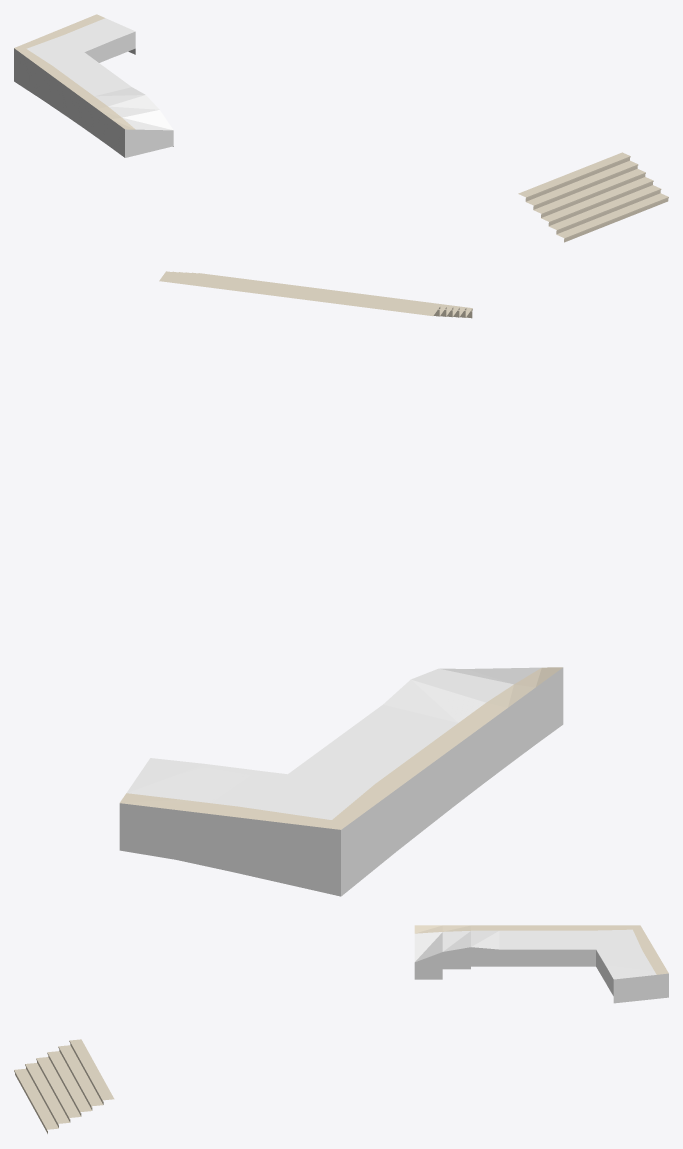
File: SM_BM_BC_Works_1_4.glb
3 views of the same model, one above another, from view 1: azimuth 30°, elevation 25°; view 2: azimuth 150°, elevation 25°; view 3: azimuth 270°, elevation 25° (orthographic). The views are drawn at different scales.
Parts seen in each view (by area): view 1: SM_BM_BC_Works_1_4; view 2: SM_BM_BC_Works_1_4; view 3: SM_BM_BC_Works_1_4.
Part boxes in pixels (x1,y1,x2,y2): SM_BM_BC_Works_1_4: (14, 14, 668, 242); SM_BM_BC_Works_1_4: (119, 271, 563, 896); SM_BM_BC_Works_1_4: (14, 925, 668, 1133).
Size of the model in its own units: 13.47 by 1.27 by 20.69.
